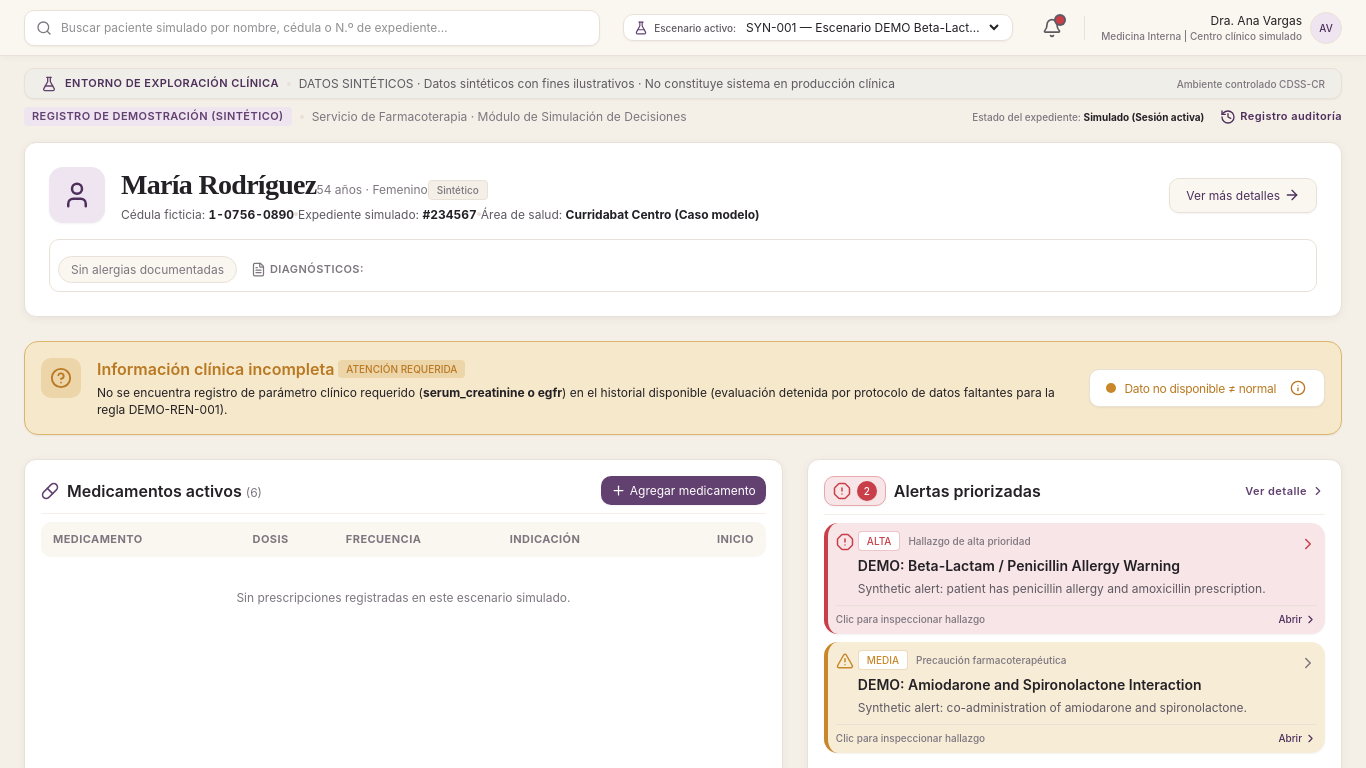
Scenario: Dashboard Visual Baseline — 1:1 Stitch Converged › Data state › renders AI explanation with ethical disclaimer and audit timeline when detail is open
What coordinates should you click on to do the following:
click the button named "abrir detalle de alertas"
I would click on:
 (855, 491)
Its box is [824,476,886,506].
(page scrolled)
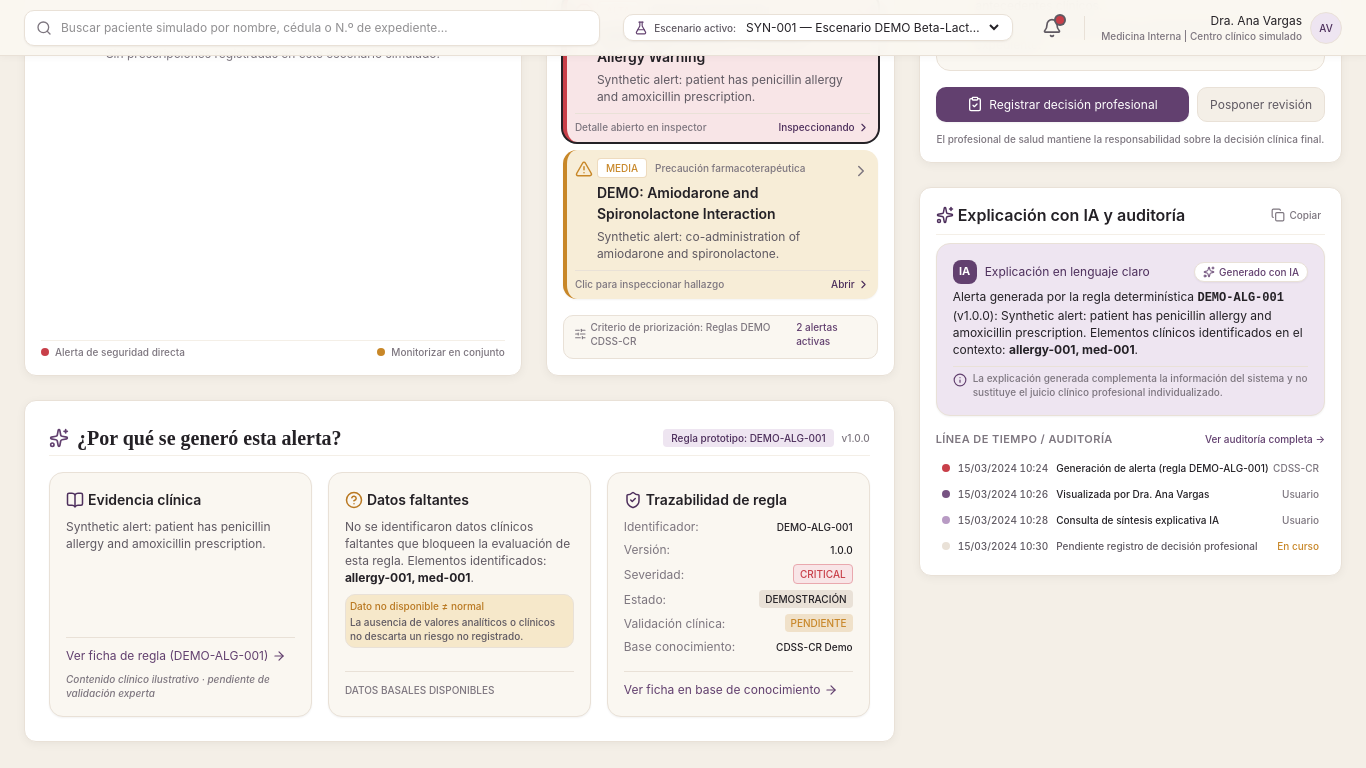
Expected: the element "Explicación con IA y auditoría" is shown, [919,186,1342,576]
Expected: the text "Generado con IA" is shown, [1194,262,1308,282]
Expected: the text "Línea de tiempo / Auditoría" is shown, [936,432,1113,446]
